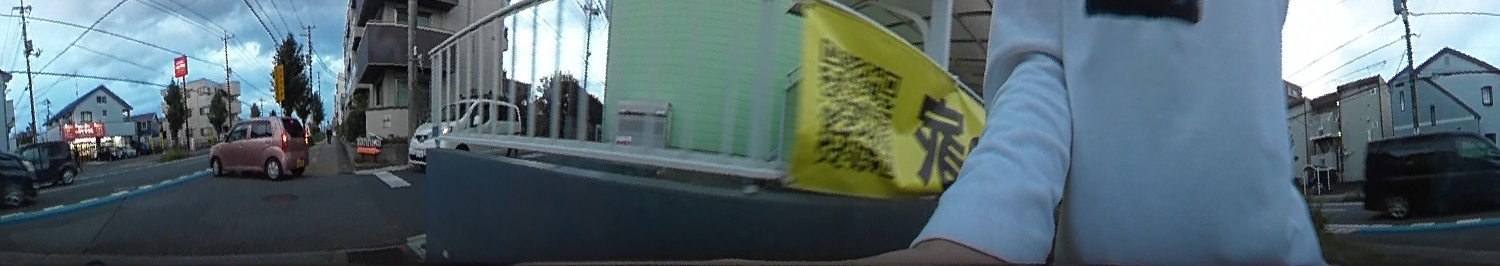difficult_person: (325, 120, 334, 143)
